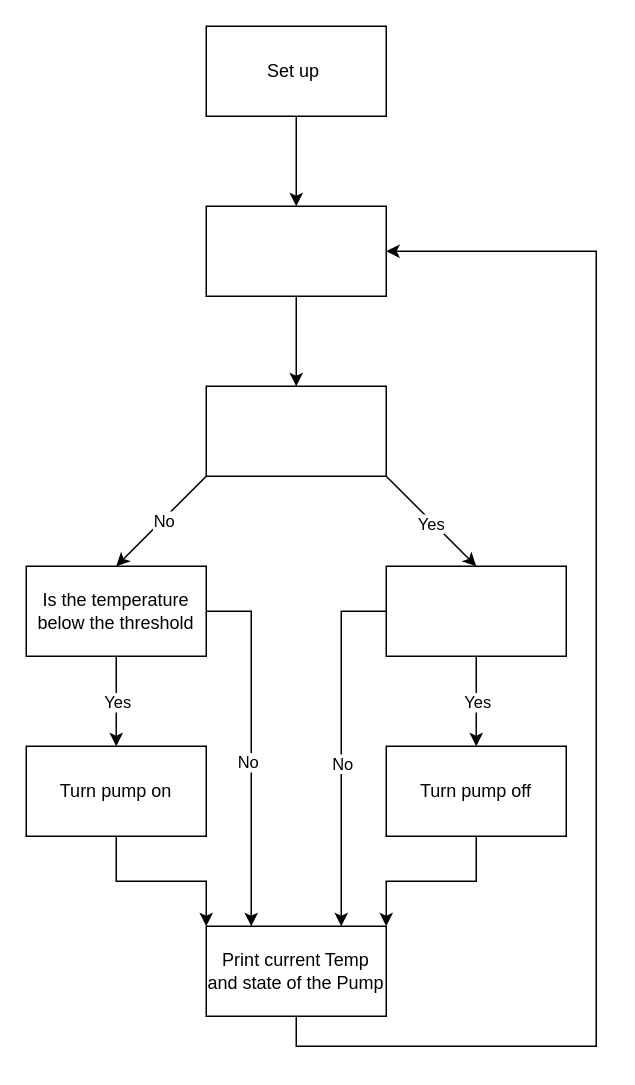
Image size: 635x1085. Some labels were removed from this diagram. Each missing label, with the box of its shape:
Is pump on: (205, 385, 386, 476)
Is the temperature above the threshold: (385, 565, 566, 656)
Read in temperature: (205, 205, 386, 296)
